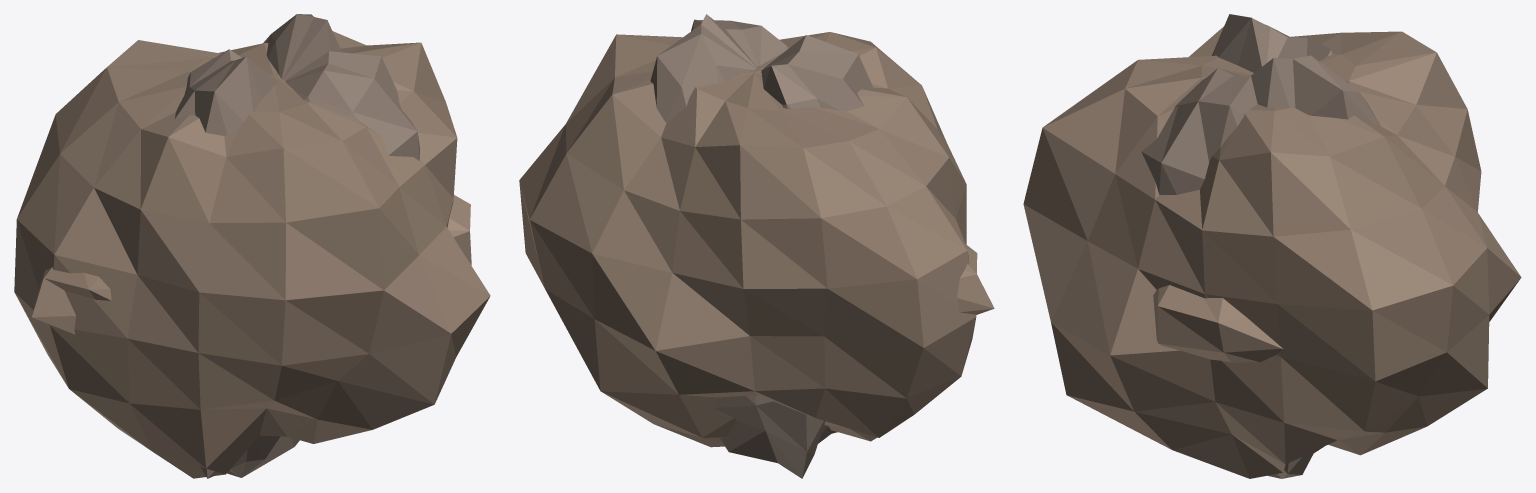
Rendered from foreground.glb.
3 renders of one model, left to right at view 1: azimuth 30°, elevation 25°; view 2: azimuth 150°, elevation 25°; view 3: azimuth 270°, elevation 25°, orthographic. The views are drawn at different scales.
Visible parts, largest first — view 1: foreground_stone_1, foreground_stone_3, foreground_stone_2; view 2: foreground_stone_1, foreground_stone_3, foreground_stone_2; view 3: foreground_stone_1, foreground_stone_3, foreground_stone_2.
Boxes of the visible parts, left/top/right/bottom form: foreground_stone_1: left=14, top=31, right=490, bottom=478; foreground_stone_3: left=175, top=14, right=419, bottom=478; foreground_stone_2: left=32, top=195, right=471, bottom=334; foreground_stone_1: left=519, top=32, right=976, bottom=447; foreground_stone_3: left=650, top=14, right=873, bottom=478; foreground_stone_2: left=957, top=244, right=994, bottom=314; foreground_stone_1: left=1023, top=26, right=1521, bottom=478; foreground_stone_3: left=1141, top=14, right=1381, bottom=478; foreground_stone_2: left=1153, top=285, right=1283, bottom=362.
Bounding box in the file's own units: 2.09 × 2 × 1.95.
